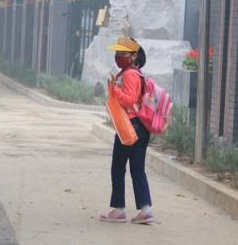person: (82, 34, 176, 229)
